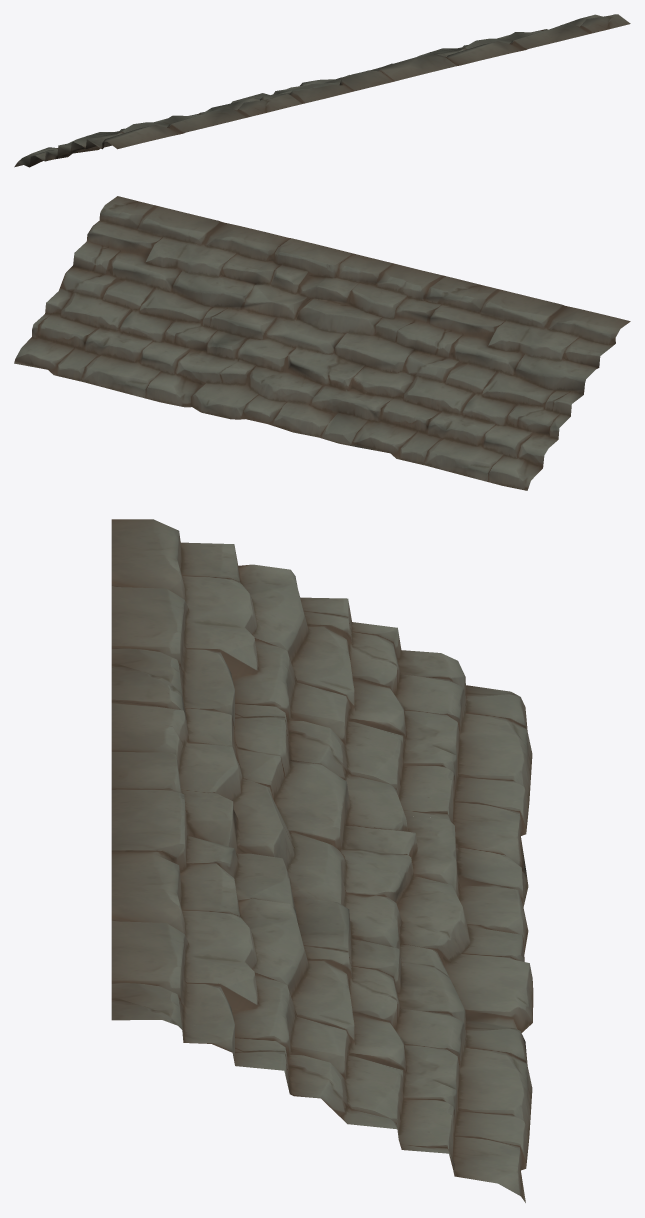
File: SM_FW01_Ruins_Int_Stairs_4x1x6_01.fbx
3 renders of one model, top to bottom at view 1: azimuth 30°, elevation 25°; view 2: azimuth 150°, elevation 25°; view 3: azimuth 270°, elevation 25°, orthographic. The views are drawn at different scales.
Visible parts, largest first — view 1: SM_FW01_Ruins_Int_Stairs_4x1x6_01_LOD0; view 2: SM_FW01_Ruins_Int_Stairs_4x1x6_01_LOD0; view 3: SM_FW01_Ruins_Int_Stairs_4x1x6_01_LOD0.
Boxes of the visible parts, x1=… form: SM_FW01_Ruins_Int_Stairs_4x1x6_01_LOD0: x1=14, y1=14, x2=630, y2=167; SM_FW01_Ruins_Int_Stairs_4x1x6_01_LOD0: x1=14, y1=196, x2=630, y2=490; SM_FW01_Ruins_Int_Stairs_4x1x6_01_LOD0: x1=111, y1=519, x2=533, y2=1202.
Size of what is drawn, in the model's own units: 5.99 by 1.08 by 2.13.
